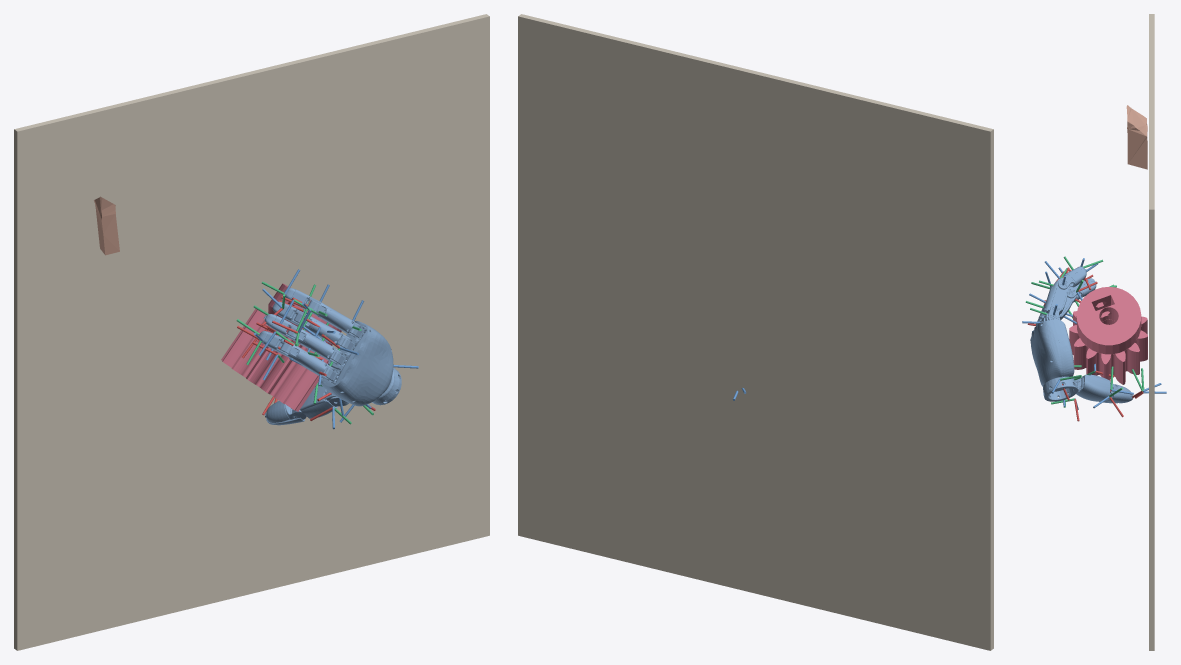
3 views of the same model, side by side, from view 1: azimuth 30°, elevation 25°; view 2: azimuth 150°, elevation 25°; view 3: azimuth 270°, elevation 25° (orthographic). The views are drawn at different scales.
Parts seen in each view (by area): view 1: environment, hand, target_object, local_object_000; view 2: environment; view 3: target_object, hand, environment, local_object_000.
Boxes of the visible parts, x1=… form: environment: x1=14, y1=14, x2=489, y2=650; hand: x1=259, y1=288, x2=401, y2=425; target_object: x1=221, y1=283, x2=341, y2=411; local_object_000: x1=94, y1=196, x2=119, y2=255; environment: x1=518, y1=14, x2=993, y2=650; target_object: x1=1069, y1=287, x2=1147, y2=384; hand: x1=1030, y1=266, x2=1132, y2=403; environment: x1=1149, y1=14, x2=1154, y2=650; local_object_000: x1=1126, y1=105, x2=1147, y2=169.
Size of the model in its own units: 0.6663 by 0.7 by 0.208.
